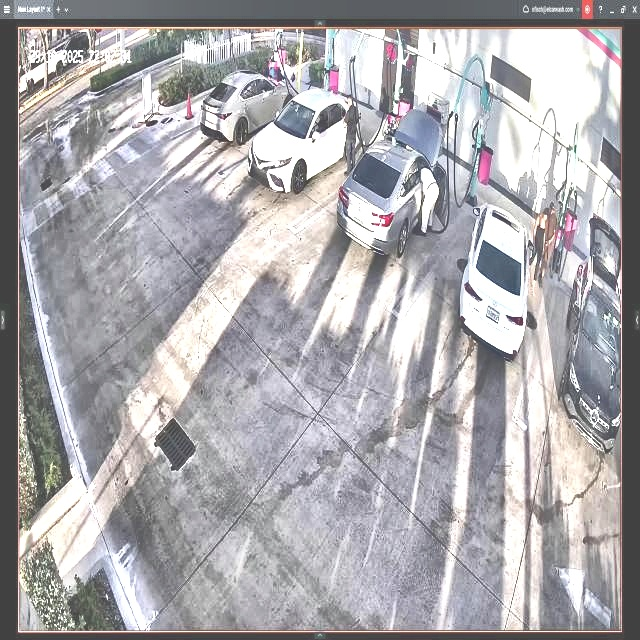Car: (338, 110, 438, 256), (251, 92, 360, 191), (463, 202, 528, 355), (204, 71, 295, 146)
